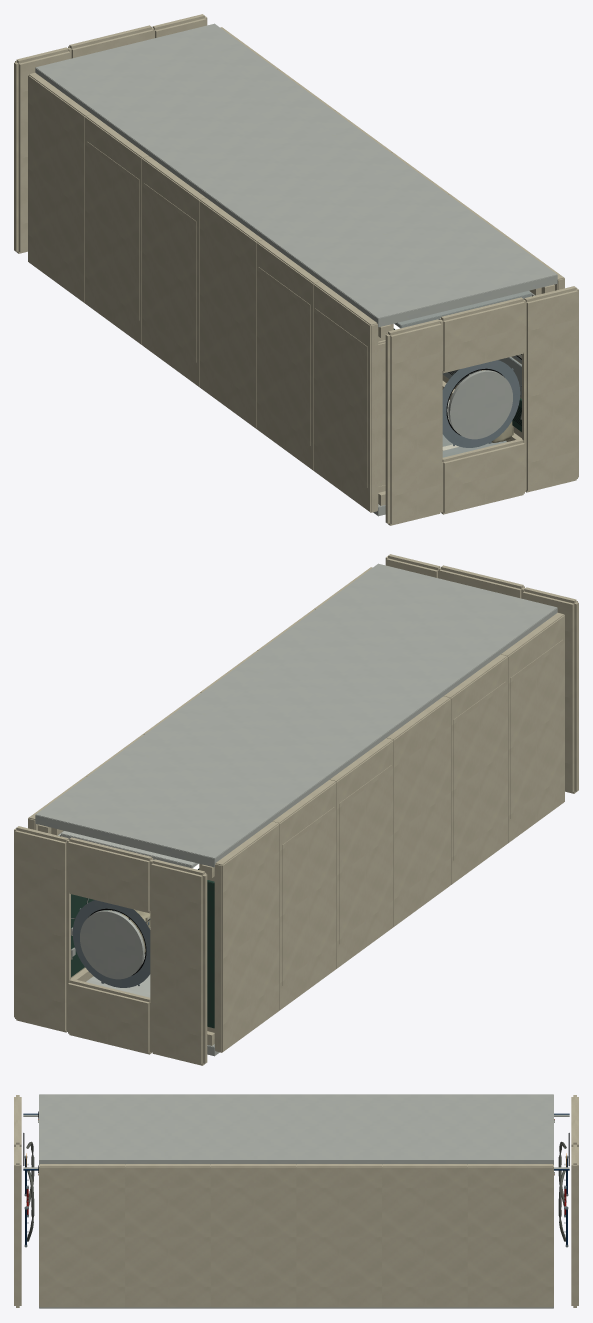
The model's file is nauka.glb.
3 views of the same model, one above another, from view 1: azimuth 30°, elevation 25°; view 2: azimuth 150°, elevation 25°; view 3: azimuth 270°, elevation 25° (orthographic). The views are drawn at different scales.
Visible parts, largest first — view 1: nauka_detailed; view 2: nauka_detailed; view 3: nauka_detailed.
Part boxes in pixels (x1,y1,x2,y2): nauka_detailed: (14,14,578,525); nauka_detailed: (14,554,578,1065); nauka_detailed: (14,1094,578,1308).
Bounding box in the file's own units: 3.1 × 3 × 10.34.
Materials: 22 (16 with a texture image).
